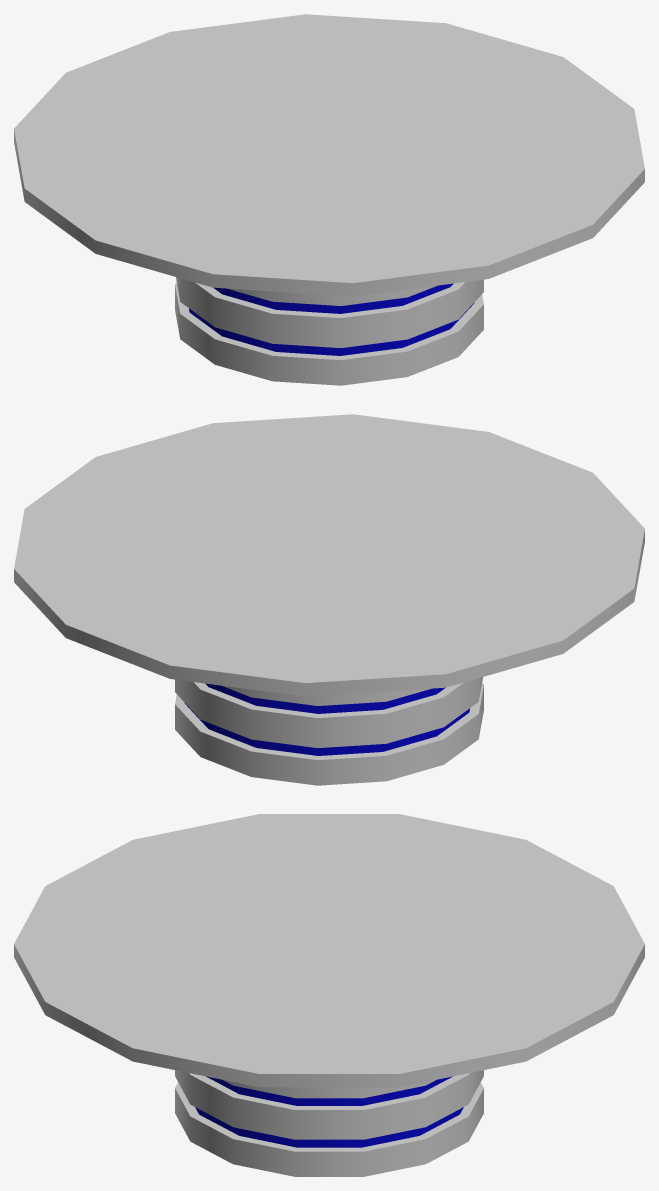
The model's file is Table.001.fbx.
The picture shows the model from 3 angles, top to bottom: view 1: azimuth 30°, elevation 25°; view 2: azimuth 150°, elevation 25°; view 3: azimuth 270°, elevation 25°; orthographic projection.
Visible parts, largest first — view 1: Table.001; view 2: Table.001; view 3: Table.001.
Part boxes in pixels (left/top/right/bottom): Table.001: left=14, top=14, right=644, bottom=385; Table.001: left=14, top=414, right=644, bottom=785; Table.001: left=14, top=814, right=644, bottom=1176.
Size of the model in its own units: 1.95 by 0.5919 by 2.
